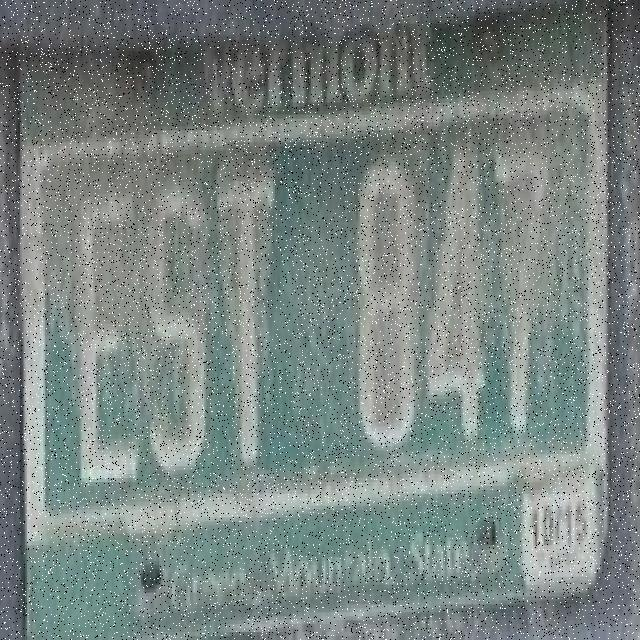LicensePlate: (3, 0, 640, 624)
